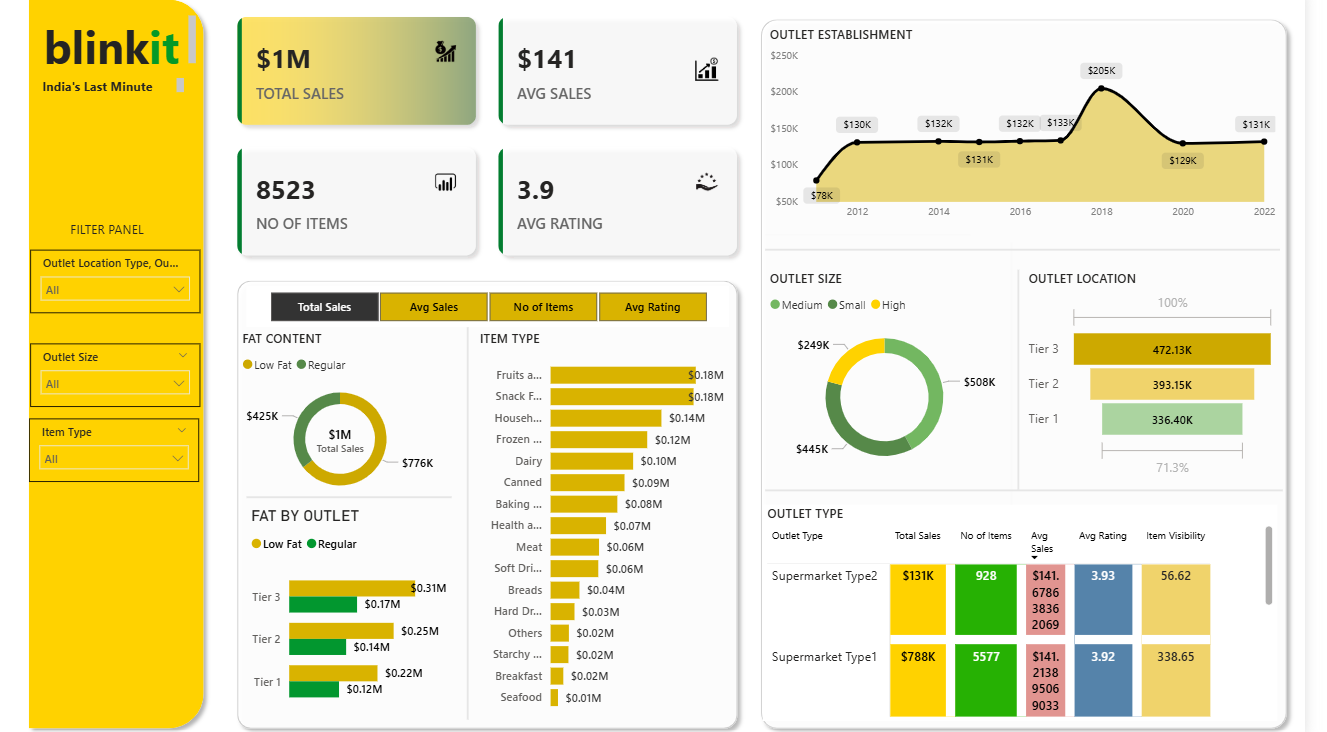

What the dashboard file says about the page in this screenshot:
{"tool":"powerbi","page":{"name":"Page 1","canvas":[1400,800],"ordinal":0},"visuals":[{"type":"shape","box":[22.5,0,205.6,800],"z":0},{"type":"textbox","box":[42,88.6,162.1,30],"z":1000},{"type":"textbox","box":[33.5,21.4,182.3,67],"z":2000},{"type":"cardVisual","fields":{"Data":["BlinkIT Grocery Data.Total Sales","BlinkIT Grocery Data.Avg Sales","BlinkIT Grocery Data.No of Items","BlinkIT Grocery Data.Avg Rating"]},"box":[238.6,10.5,570.3,291.2],"z":3000},{"type":"shape","box":[247.1,301.4,554.3,498.6],"z":4000},{"type":"donutChart","title":"FAT CONTENT","fields":{"Y":["BlinkIT Grocery Data.Total Sales"],"Category":["BlinkIT Grocery Data.Item Fat Content"]},"box":[256,363.3,219.8,189],"z":5000},{"type":"slicer","title":"FAT CONTENT","fields":{"Values":["Metrics.Metrics"]},"box":[265.4,316.4,517.4,44.2],"z":6000},{"type":"cardVisual","fields":{"Data":["BlinkIT Grocery Data.Total Sales"]},"box":[316.4,449.1,99.2,60.3],"z":7000},{"type":"clusteredBarChart","title":" FAT BY OUTLET","fields":{"Y":["BlinkIT Grocery Data.Total Sales"],"Category":["BlinkIT Grocery Data.Outlet Location Type"],"Series":["BlinkIT Grocery Data.Item Fat Content"]},"box":[265.4,552.3,219.8,230.6],"z":8000},{"type":"shape","box":[821.7,253.4,219.8,16.1],"z":9000},{"type":"shape","box":[1077.8,269.4,16.1,420.9],"z":10000},{"type":"barChart","title":" ITEM TYPE","fields":{"Y":["BlinkIT Grocery Data.Total Sales"],"Category":["BlinkIT Grocery Data.Item Type"]},"box":[510.7,363.3,272.1,418.2],"z":11000},{"type":"shape","box":[808.3,21.4,581.8,778.8],"z":12000},{"type":"lineChart","title":"OUTLET ESTABLISHMENT","fields":{"Y":["BlinkIT Grocery Data.Total Sales"],"Category":["BlinkIT Grocery Data.Outlet Establishment Year"]},"box":[821.7,37.5,552.3,215.8],"z":13000},{"type":"shape","box":[265.4,534.9,219.8,16.1],"z":14000},{"type":"shape","box":[821.7,269.4,552.3,16.1],"z":15000},{"type":"donutChart","title":"OUTLET SIZE","fields":{"Y":["BlinkIT Grocery Data.Total Sales"],"Category":["BlinkIT Grocery Data.Outlet Size"]},"box":[821.7,298.9,256,227.9],"z":16000},{"type":"shape","box":[494.6,360.6,16.1,420.9],"z":17000},{"type":"shape","box":[1087.1,298.9,12.1,235.9],"z":18000},{"type":"funnel","title":"OUTLET LOCATION","fields":{"Y":["Sum(BlinkIT Grocery Data.Sales)"],"Category":["BlinkIT Grocery Data.Outlet Location Type"]},"box":[1099.2,298.9,274.8,227.9],"z":19000},{"type":"shape","box":[821.7,526.8,555,17.4],"z":20000},{"type":"pivotTable","title":"OUTLET TYPE","fields":{"Rows":["BlinkIT Grocery Data.Outlet Type"],"Values":["BlinkIT Grocery Data.Total Sales","BlinkIT Grocery Data.No of Items","BlinkIT Grocery Data.Avg Sales","BlinkIT Grocery Data.Avg Rating","Sum(BlinkIT Grocery Data.Item Visibility)"]},"box":[819,550.9,552.3,231.9],"z":21000},{"type":"slicer","fields":{"Values":["BlinkIT Grocery Data.Outlet Location Type","BlinkIT Grocery Data.Outlet Establishment Year"]},"box":[33.5,277.5,182.3,68.4],"z":22000},{"type":"slicer","fields":{"Values":["BlinkIT Grocery Data.Outlet Size"]},"box":[33.5,378,182.3,68.4],"z":23000},{"type":"slicer","fields":{"Values":["BlinkIT Grocery Data.Item Type"]},"box":[32.2,458.4,182.3,68.4],"z":24000},{"type":"textbox","box":[67,241.3,97.9,28.2],"z":25000}]}

Visuals, with their boxes on the page's 1400x800 design canvas (x1, y1, x2, y2). These are canvas units, not pixel positions in the 1327x732 screenshot, which may show the page scaled, cropped or inside an application window:
shape: 22:0:228:800
textbox: 42:89:204:119
textbox: 34:21:216:88
cardVisual - BlinkIT Grocery Data.Total Sales x BlinkIT Grocery Data.Avg Sales: 239:10:809:302
shape: 247:301:801:800
"FAT CONTENT" donutChart: 256:363:476:552
"FAT CONTENT" slicer: 265:316:783:361
cardVisual - BlinkIT Grocery Data.Total Sales: 316:449:416:509
" FAT BY OUTLET" clusteredBarChart: 265:552:485:783
shape: 822:253:1042:270
shape: 1078:269:1094:690
" ITEM TYPE" barChart: 511:363:783:782
shape: 808:21:1390:800
"OUTLET ESTABLISHMENT" lineChart: 822:38:1374:253
shape: 265:535:485:551
shape: 822:269:1374:286
"OUTLET SIZE" donutChart: 822:299:1078:527
shape: 495:361:511:782
shape: 1087:299:1099:535
"OUTLET LOCATION" funnel: 1099:299:1374:527
shape: 822:527:1377:544
"OUTLET TYPE" pivotTable: 819:551:1371:783
slicer - BlinkIT Grocery Data.Outlet Location Type x BlinkIT Grocery Data.Outlet Establishment Year: 34:278:216:346
slicer - BlinkIT Grocery Data.Outlet Size: 34:378:216:446
slicer - BlinkIT Grocery Data.Item Type: 32:458:214:527
textbox: 67:241:165:270
